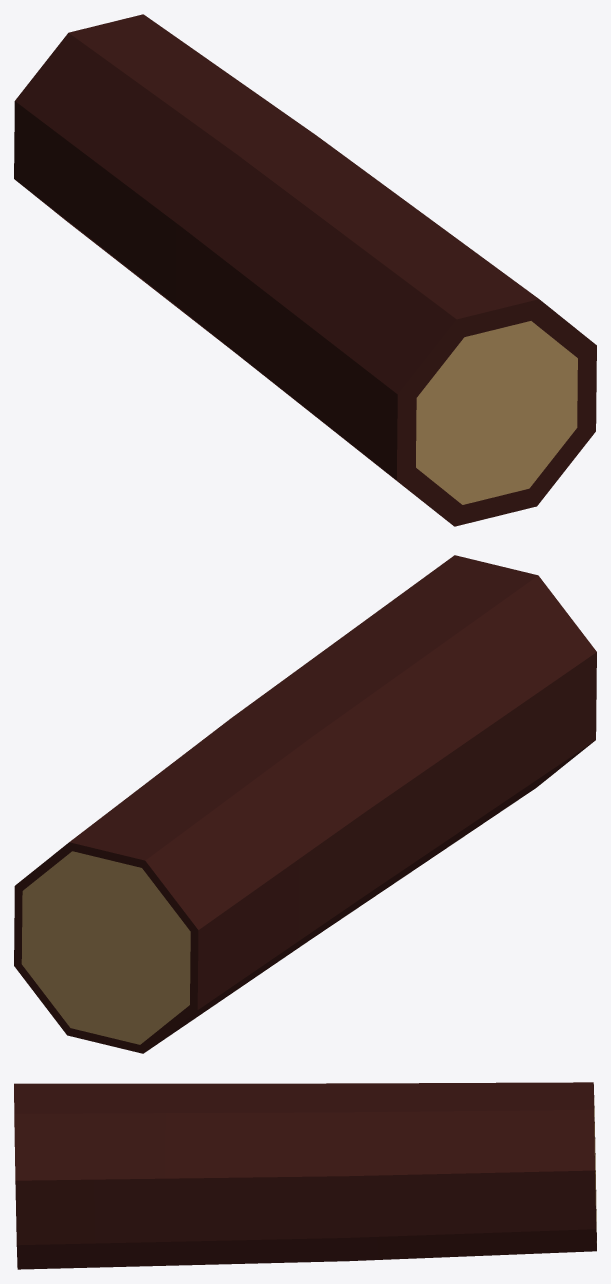
Rendered from SM_Campfire_02_Log_005.fbx.
The picture shows the model from 3 angles, top to bottom: view 1: azimuth 30°, elevation 25°; view 2: azimuth 150°, elevation 25°; view 3: azimuth 270°, elevation 25°; orthographic projection. The views are drawn at different scales.
Parts seen in each view (by area): view 1: CampfireLog_005; view 2: CampfireLog_005; view 3: CampfireLog_005.
Part boxes in pixels (x1=…): CampfireLog_005: x1=14, y1=14, x2=596, y2=526; CampfireLog_005: x1=14, y1=555, x2=596, y2=1053; CampfireLog_005: x1=14, y1=1082, x2=596, y2=1269.
Size of the model in its own units: 9.97 by 10.06 by 33.81.
